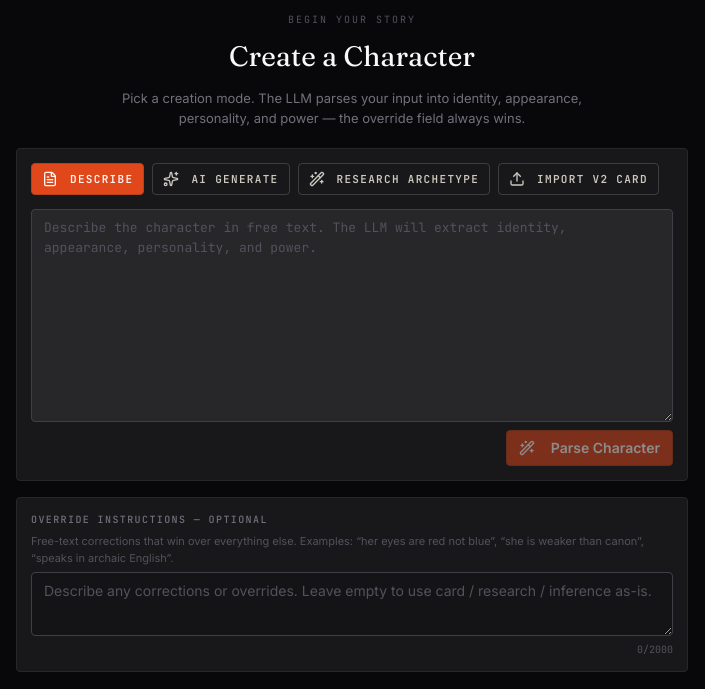
CharacterForm 4-mode surface › preserves description across mode switches
Type "a grizzled veteran" into the text box named "character description" at (352, 316), box [31, 209, 673, 422]
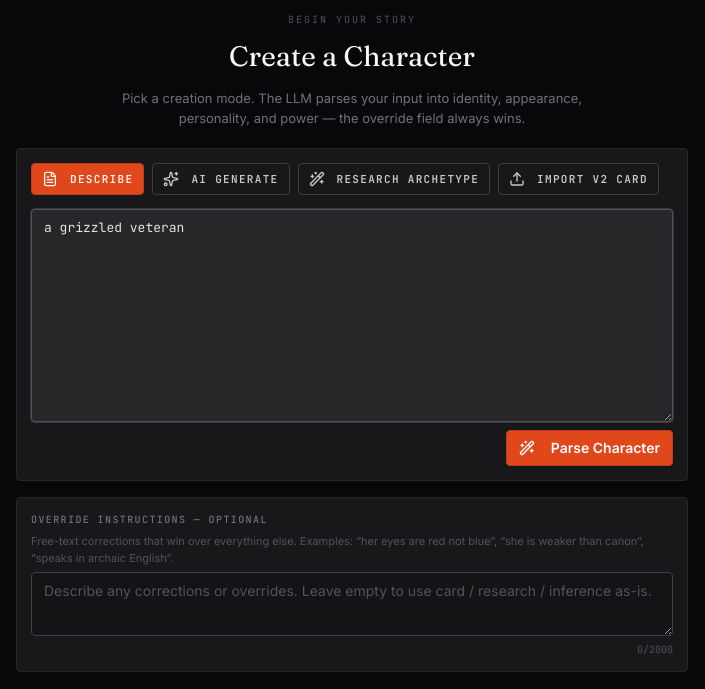
Click the tab "Research Archetype" at (394, 179), box [298, 163, 490, 195]
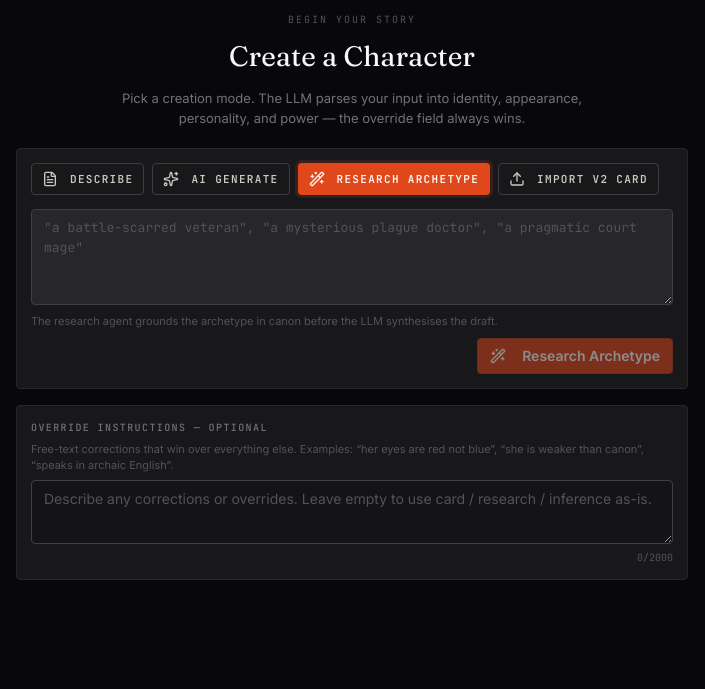
Click the tab with aria-label "describe character from free text" at (88, 179), box [31, 163, 144, 195]
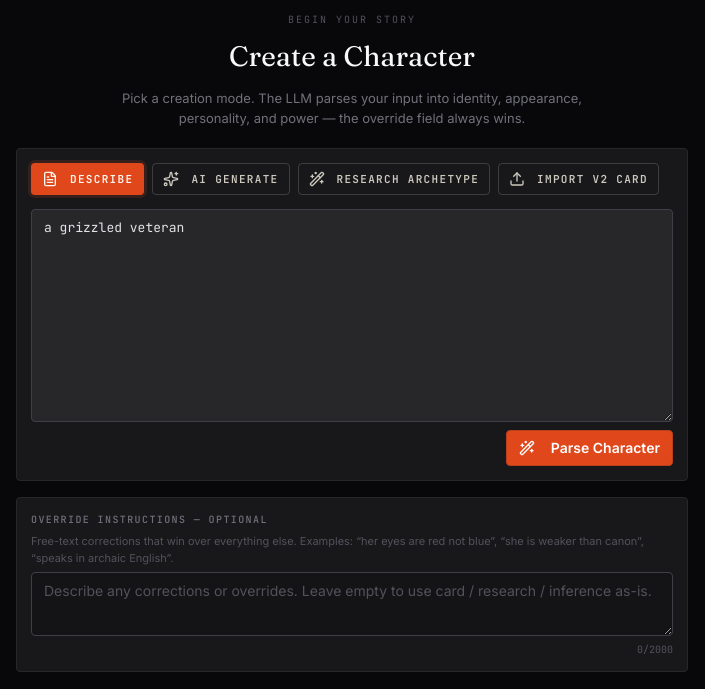
Check: the text box named "character description" holds "a grizzled veteran", box [31, 209, 673, 422]
